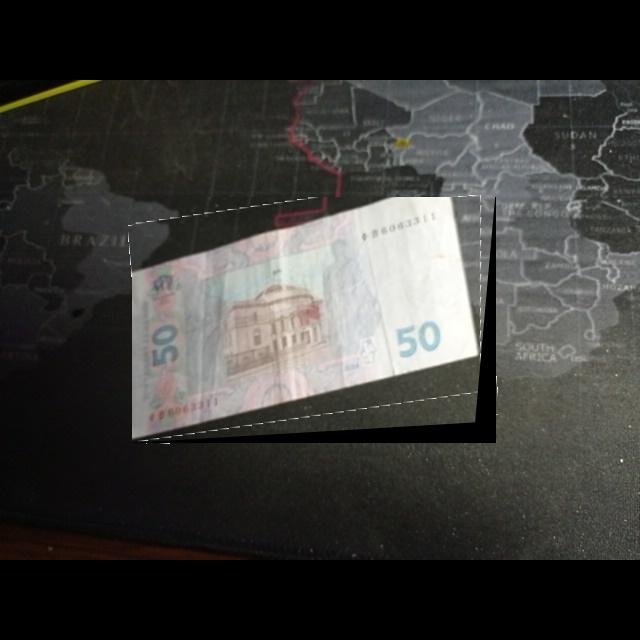50uah: (132, 197, 485, 444)
